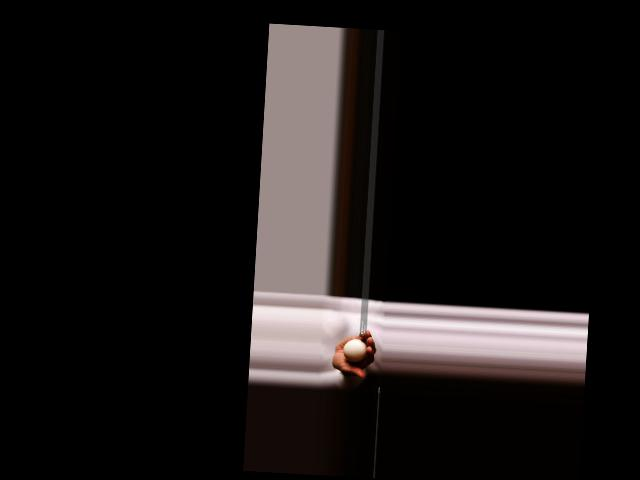egg: (343, 338, 368, 362)
